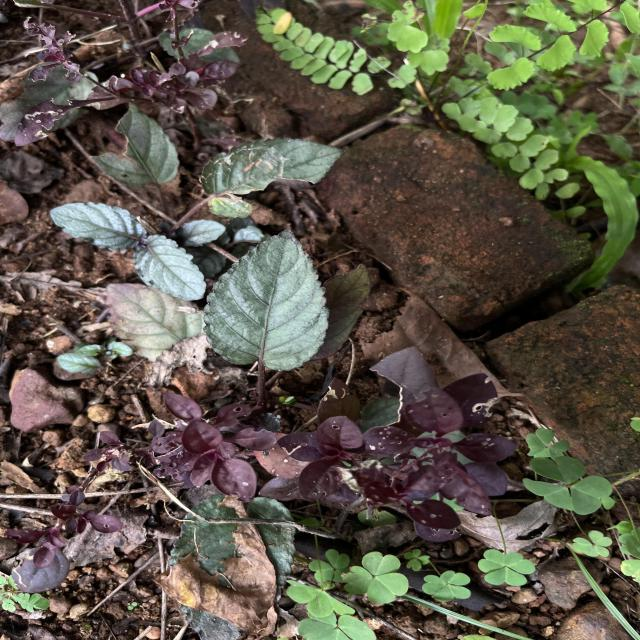Hemigraphis colorata: (200, 226, 332, 374), (47, 198, 147, 254), (132, 234, 208, 302)
